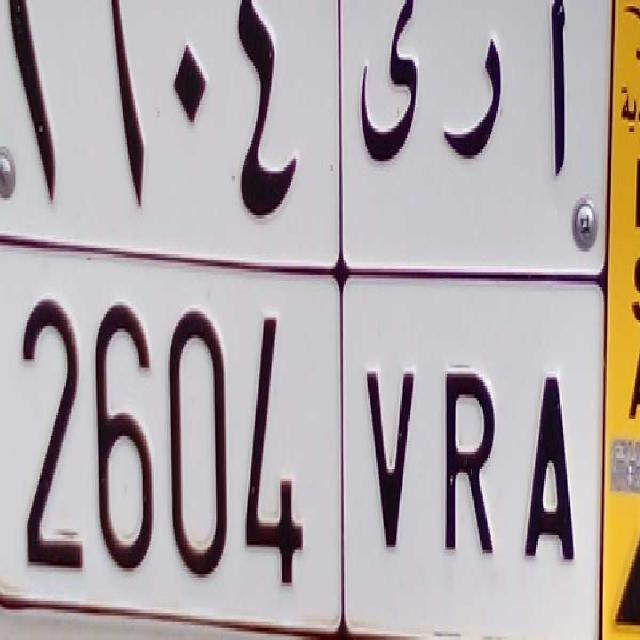license_plate: (0, 234, 604, 640)
